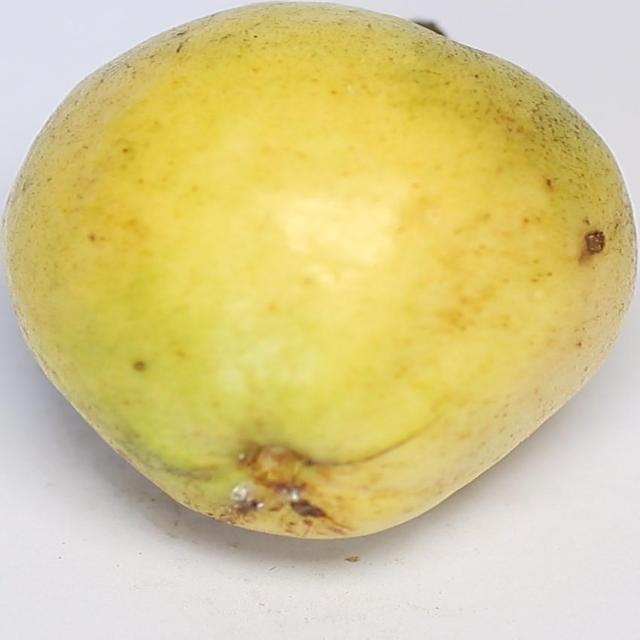Good_Guava: (0, 2, 638, 542)
